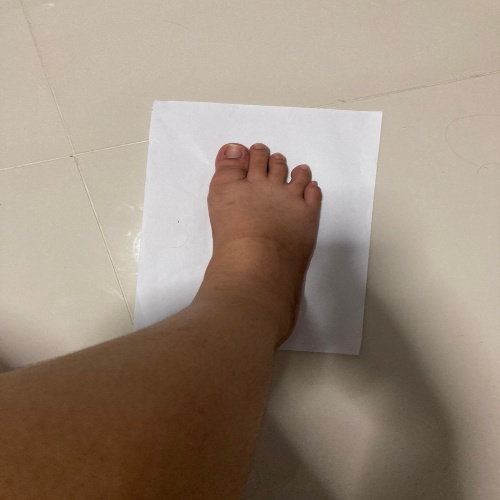Top_Foot: (108, 85, 399, 395)
